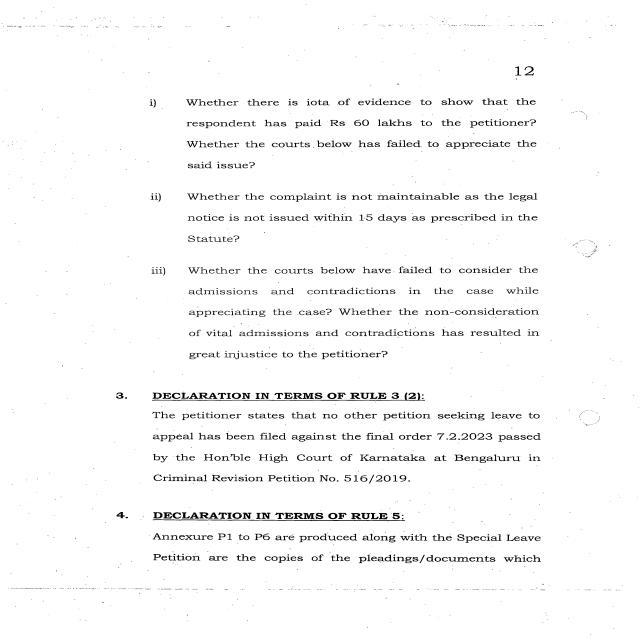page-number: (404, 17, 640, 92)
